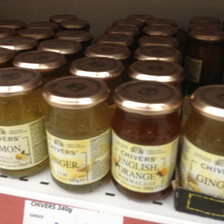jam: (112, 79, 182, 200), (42, 75, 111, 193), (1, 67, 46, 177), (182, 84, 224, 194), (185, 30, 224, 85)
